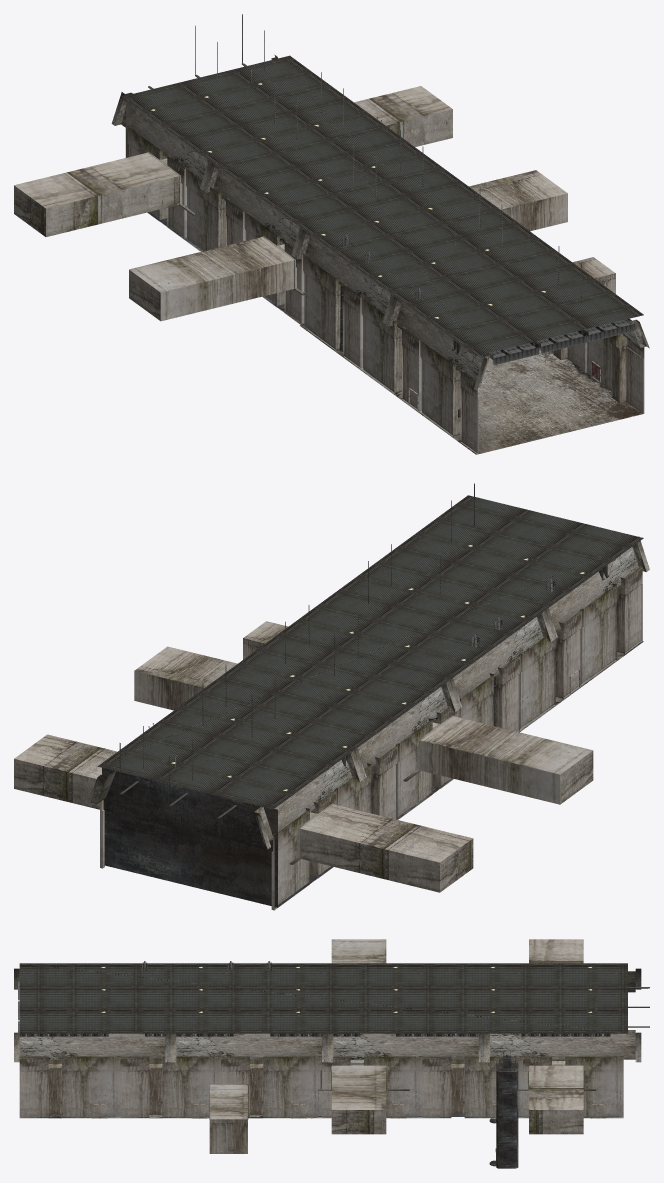
The model's file is shell.glb.
The picture shows the model from 3 angles, top to bottom: view 1: azimuth 30°, elevation 25°; view 2: azimuth 150°, elevation 25°; view 3: azimuth 270°, elevation 25°; orthographic projection. The views are drawn at different scales.
Visible parts, largest first — view 1: Plane.005_Material.005_0, Plane.004_Material.002_0, Plane.001_Material.002_0, Plane_Material.001_0, Plane.012_Material.001_0, Plane.006_Material.006_0, Cube.020_Material.006_0, Cube.001_Material.002_0; view 2: Plane.005_Material.005_0, Plane.004_Material.002_0, Plane.014_Material.003_0, Plane.012_Material.001_0, Plane.001_Material.002_0, Cube.020_Material.006_0, Cube.001_Material.002_0; view 3: Plane.005_Material.005_0, Plane.001_Material.002_0, Plane.012_Material.001_0, Plane.004_Material.002_0, Cube.001_Material.002_0, factory_tube_03.001_Material.003_0, Plane.006_Material.006_0.
Part boxes in pixels (x1,y1,x2,y2): Plane.005_Material.005_0: [122, 55, 643, 355]; Plane.004_Material.002_0: [14, 125, 478, 454]; Plane.001_Material.002_0: [354, 86, 644, 413]; Plane_Material.001_0: [300, 325, 642, 454]; Plane.012_Material.001_0: [111, 55, 649, 390]; Plane.006_Material.006_0: [488, 318, 634, 365]; Cube.020_Material.006_0: [195, 14, 581, 302]; Cube.001_Material.002_0: [572, 257, 615, 293]; Plane.005_Material.005_0: [98, 495, 643, 809]; Plane.004_Material.002_0: [271, 566, 642, 910]; Plane.014_Material.003_0: [102, 768, 277, 907]; Plane.012_Material.001_0: [87, 536, 649, 849]; Plane.001_Material.002_0: [14, 646, 237, 868]; Cube.020_Material.006_0: [119, 483, 474, 806]; Cube.001_Material.002_0: [243, 621, 287, 659]; Plane.005_Material.005_0: [19, 963, 627, 1033]; Plane.001_Material.002_0: [19, 1056, 623, 1134]; Plane.012_Material.001_0: [14, 968, 641, 1062]; Plane.004_Material.002_0: [331, 939, 583, 963]; Cube.001_Material.002_0: [209, 1084, 247, 1153]; factory_tube_03.001_Material.003_0: [489, 1052, 518, 1168]; Plane.006_Material.006_0: [18, 981, 610, 1036].
Bounding box in the file's own units: 20.69 × 8.97 × 32.62.
Materials: 11 (10 with a texture image).
